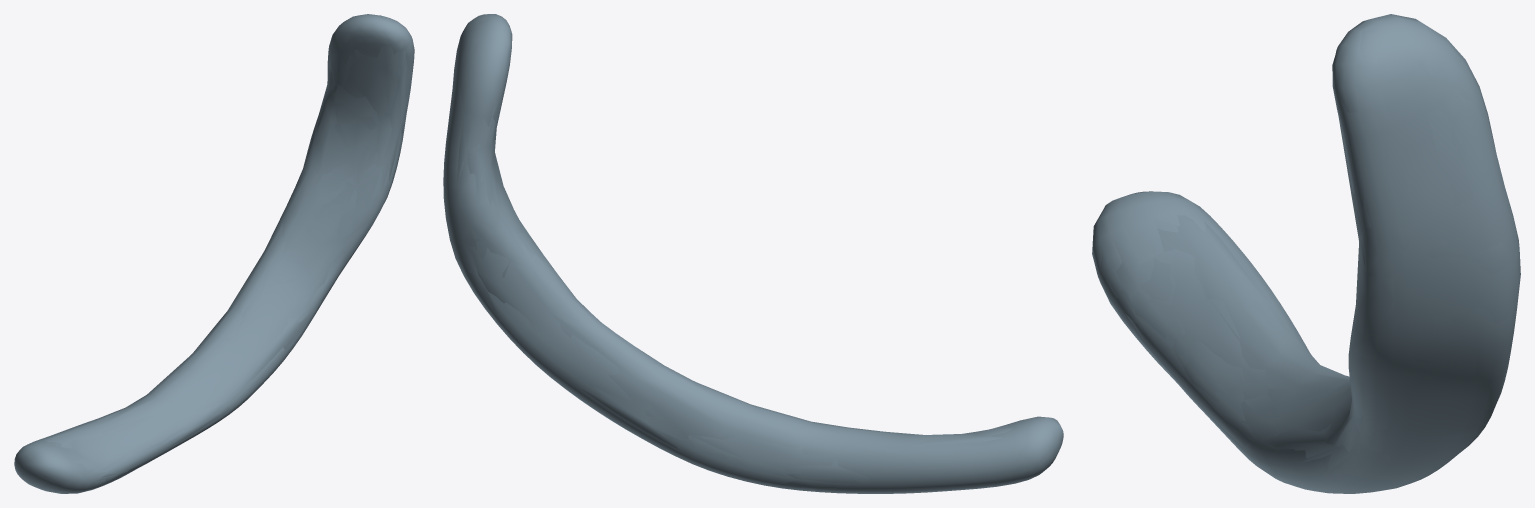
The picture shows the model from 3 angles, left to right: view 1: azimuth 30°, elevation 25°; view 2: azimuth 150°, elevation 25°; view 3: azimuth 270°, elevation 25°; orthographic projection. The views are drawn at different scales.
Visible parts, largest first — view 1: CC L04, CC L04 low, CC L04 high; view 2: CC L04 high, CC L04 low, CC L04; view 3: CC L04 high, CC L04, CC L04 low.
Part boxes in pixels (bbox=[...]): CC L04: bbox=[14, 14, 414, 493]; CC L04 low: bbox=[41, 56, 407, 477]; CC L04 high: bbox=[14, 15, 414, 493]; CC L04 high: bbox=[443, 14, 1063, 493]; CC L04 low: bbox=[467, 116, 1011, 483]; CC L04: bbox=[443, 14, 1060, 492]; CC L04 high: bbox=[1092, 16, 1520, 493]; CC L04: bbox=[1092, 14, 1520, 490]; CC L04 low: bbox=[1120, 119, 1364, 458].
Size of the model in its own units: 8.94 by 6.71 by 4.05.
